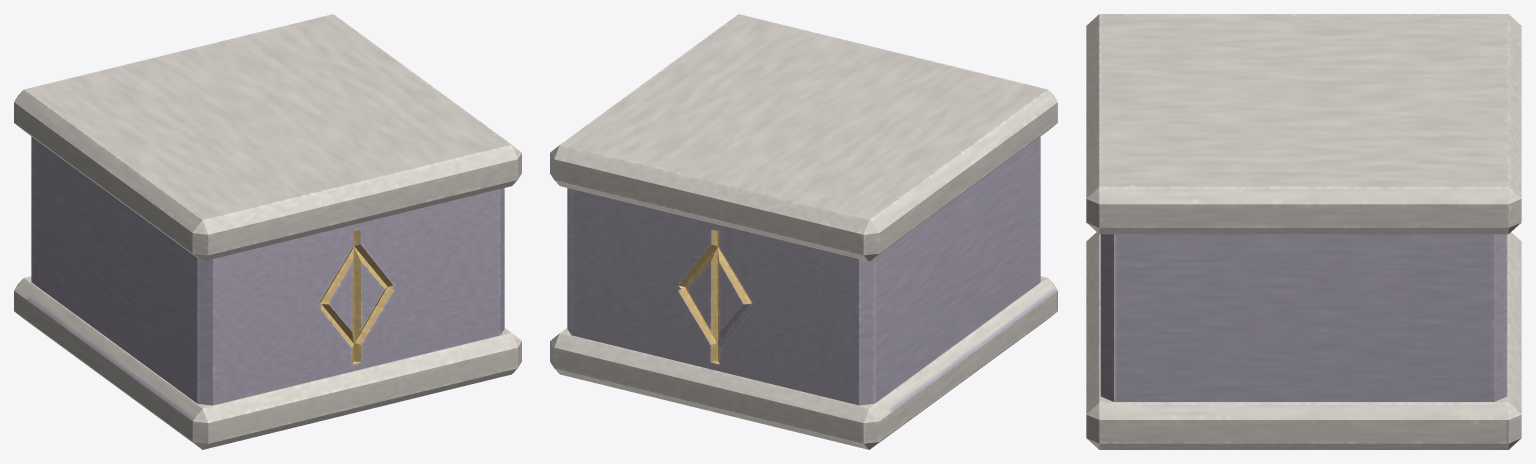
Rendered from cover_low.glb.
3 renders of one model, left to right at view 1: azimuth 30°, elevation 25°; view 2: azimuth 150°, elevation 25°; view 3: azimuth 270°, elevation 25°, orthographic. The views are drawn at different scales.
Parts seen in each view (by area): view 1: Capstone, CarvedStone, Footing; view 2: Capstone, CarvedStone, Footing; view 3: Capstone, CarvedStone, Footing.
Boxes of the visible parts, <box> form: Capstone: <box>14,14,521,261</box>; CarvedStone: <box>31,136,504,405</box>; Footing: <box>14,276,521,449</box>; Capstone: <box>550,14,1057,261</box>; CarvedStone: <box>567,136,1040,405</box>; Footing: <box>550,276,1057,449</box>; Capstone: <box>1086,14,1521,234</box>; CarvedStone: <box>1100,234,1507,401</box>; Footing: <box>1086,232,1521,449</box>.
Bounding box in the file's own units: 1.5 × 1 × 1.5.
Materials: 3 (3 with a texture image).
